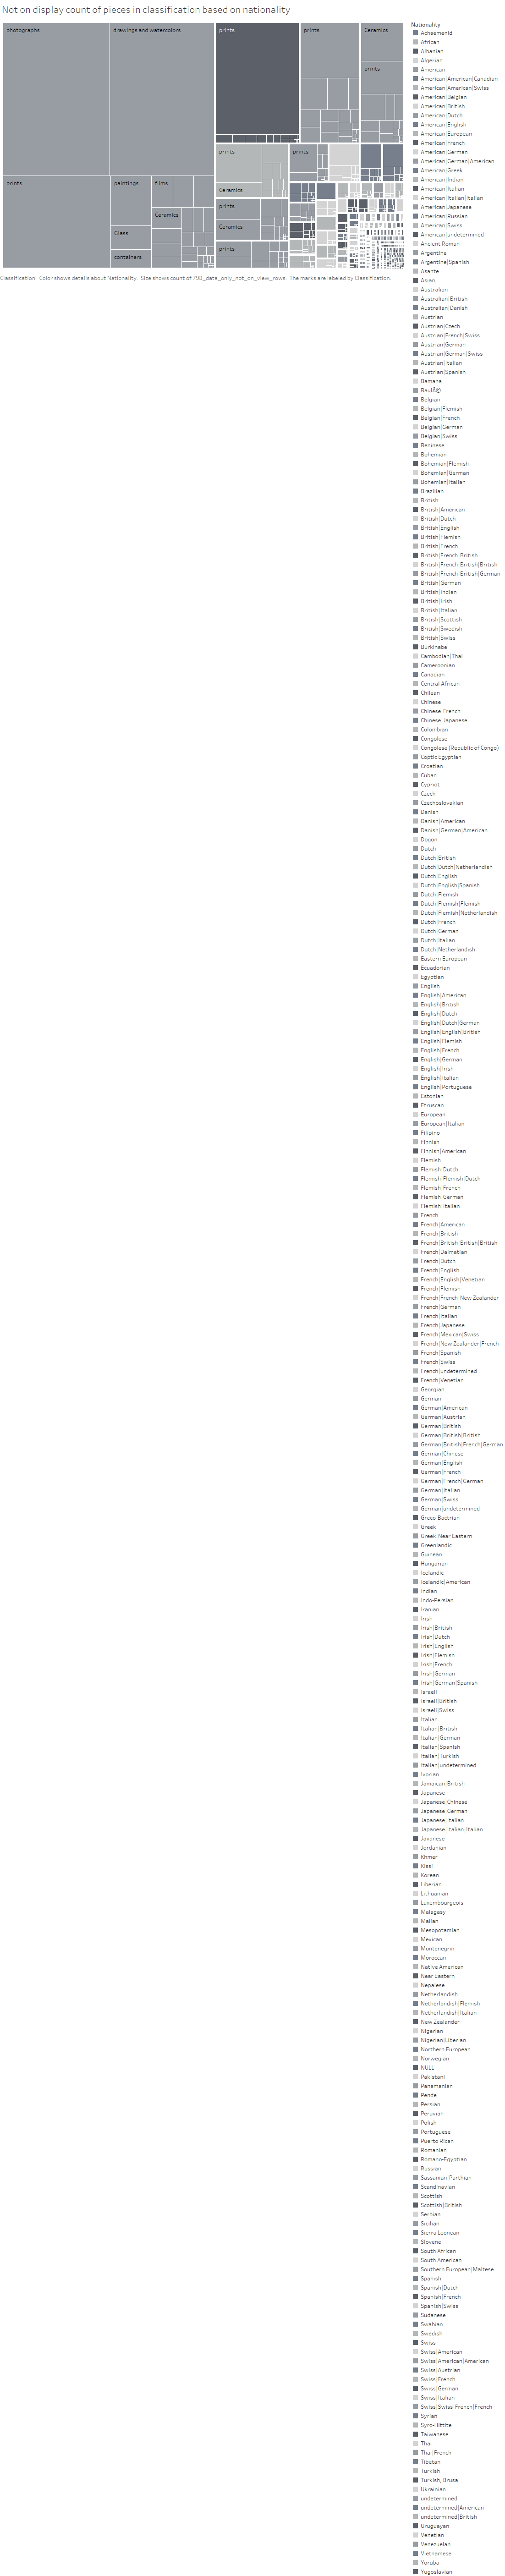

This screenshot's page, from the dashboard's own definition file:
{"tool":"tableau","page":{"name":"Dashboard 1","canvas":[1000,800],"ordinal":0},"visuals":[{"type":"worksheet","title":"Sheet 2","mark":"Automatic","rows":["798!data!only!not!on!view!rows_52761707DF0A46CA932B8A59ADC1F"],"cols":["date_acquired"],"box":[8,8,984,784]}]}

Visuals, with their boxes on the page's 1000x800 design canvas (x1, y1, x2, y2). These are canvas units, not pixel positions in the 505x2576 screenshot, which may show the page scaled, cropped or inside an application window:
"Sheet 2" worksheet: bbox=[8, 8, 992, 792]
